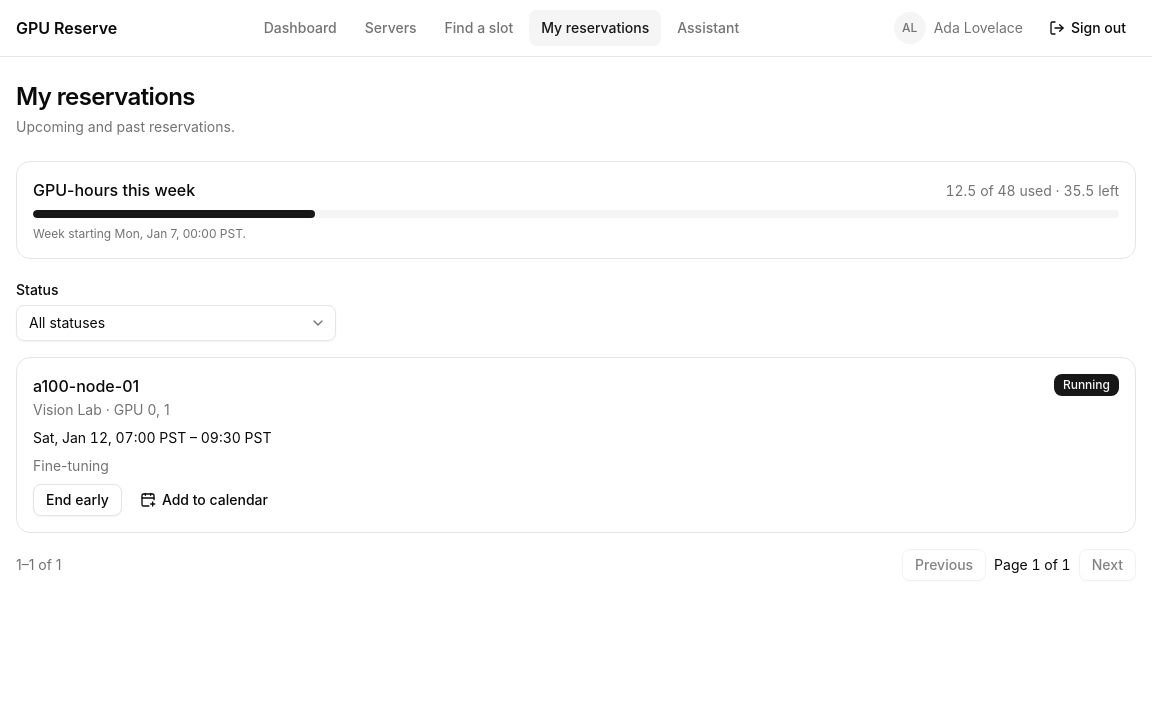
it: my reservations page › recovers when the server refuses a cancel the client allowed
The image size is (1152, 720).
Click the button "End early".
click(77, 500)  # box [33,484,122,516]
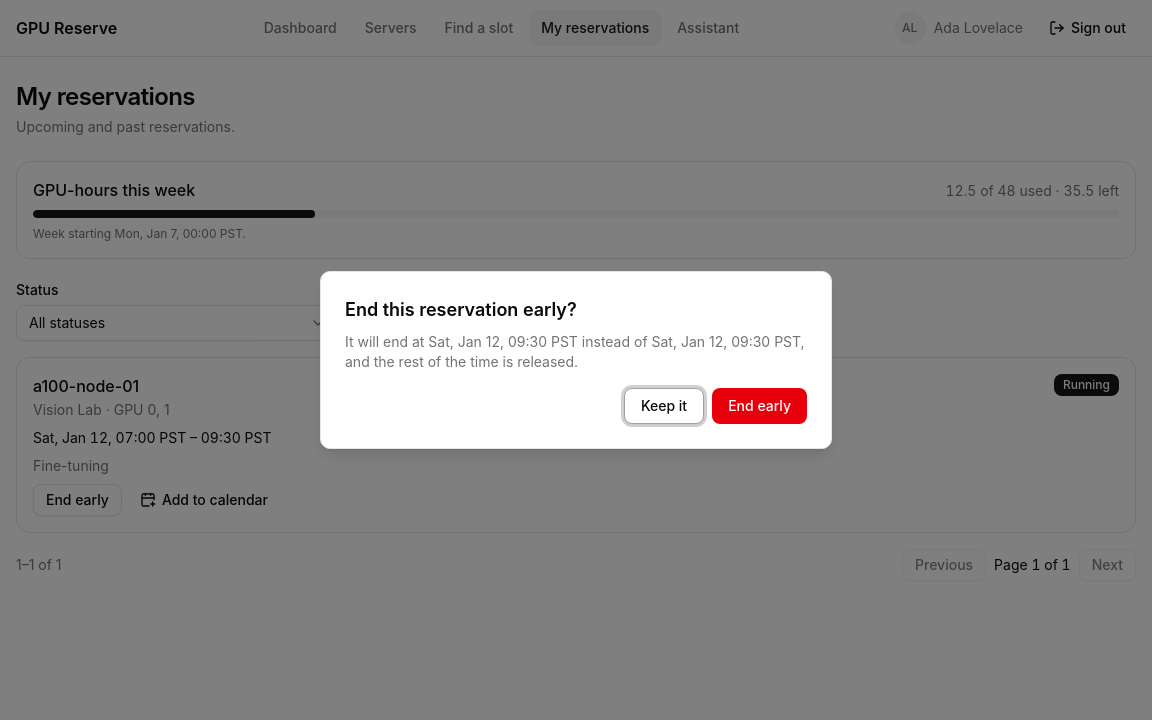
Click the button "End early".
click(760, 406)  # box [712,388,807,424]
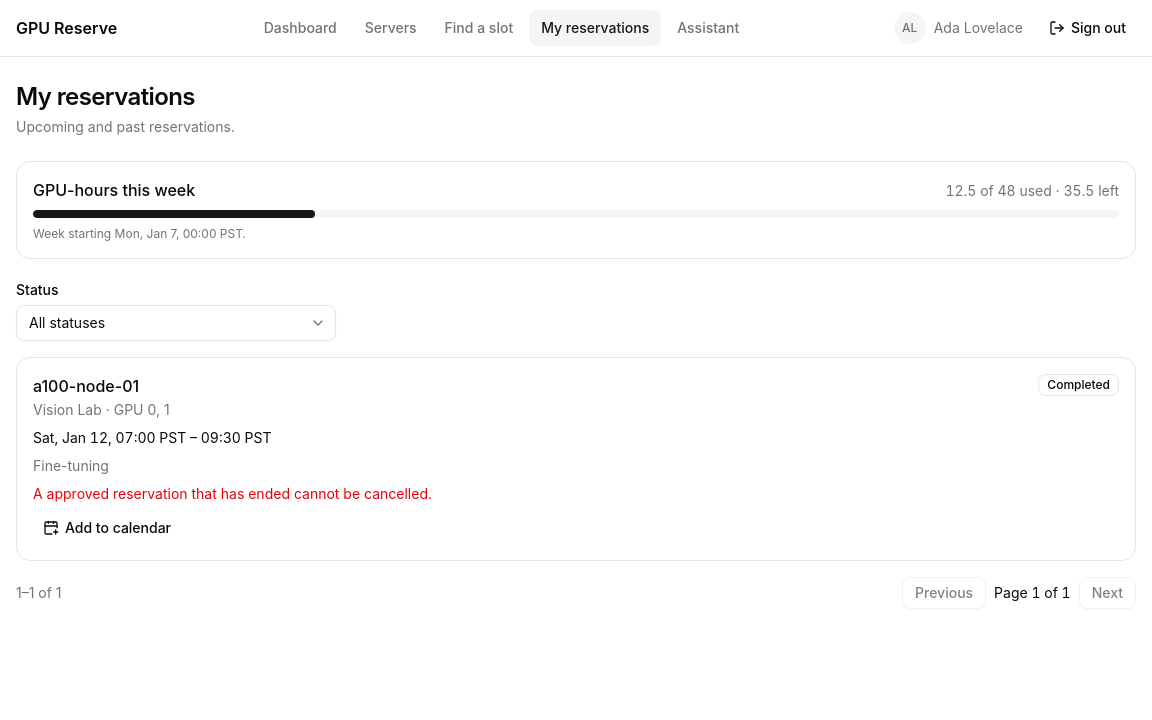
Result: the message reads "A approved reservation that has ended cannot be cancelled." at [33,485,432,502]
Result: the text "Completed" is shown at [1038,374,1119,396]
Result: the button "End early" is gone
